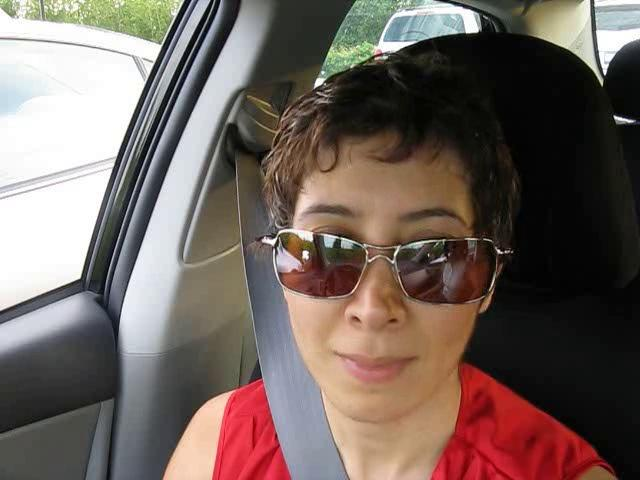no_yawn: (313, 330, 433, 396)
